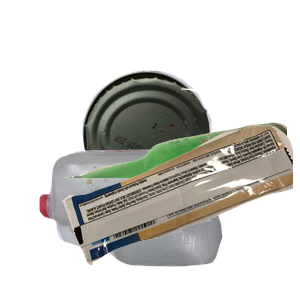glass: (60, 120, 300, 300)
metal: (80, 68, 284, 248)
plastic: (37, 147, 254, 300)
trash: (60, 123, 300, 300)
